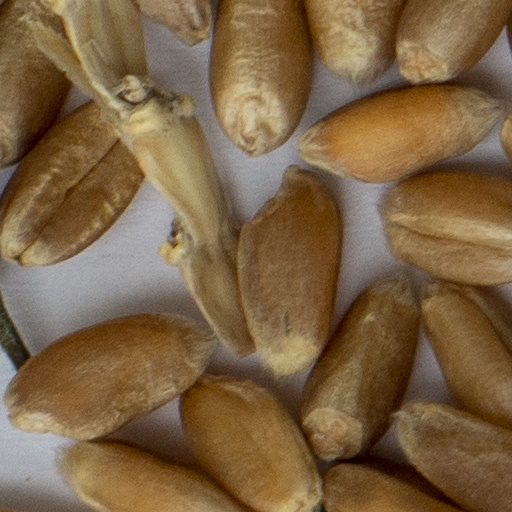Peel-poly: (32, 0, 247, 347)
